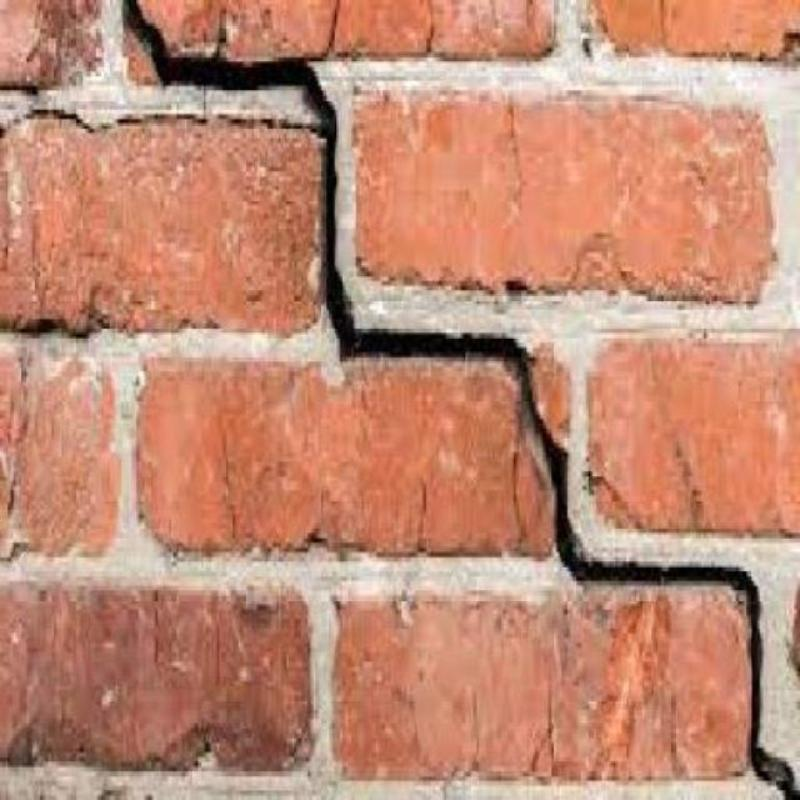pothole: (124, 0, 799, 799)
